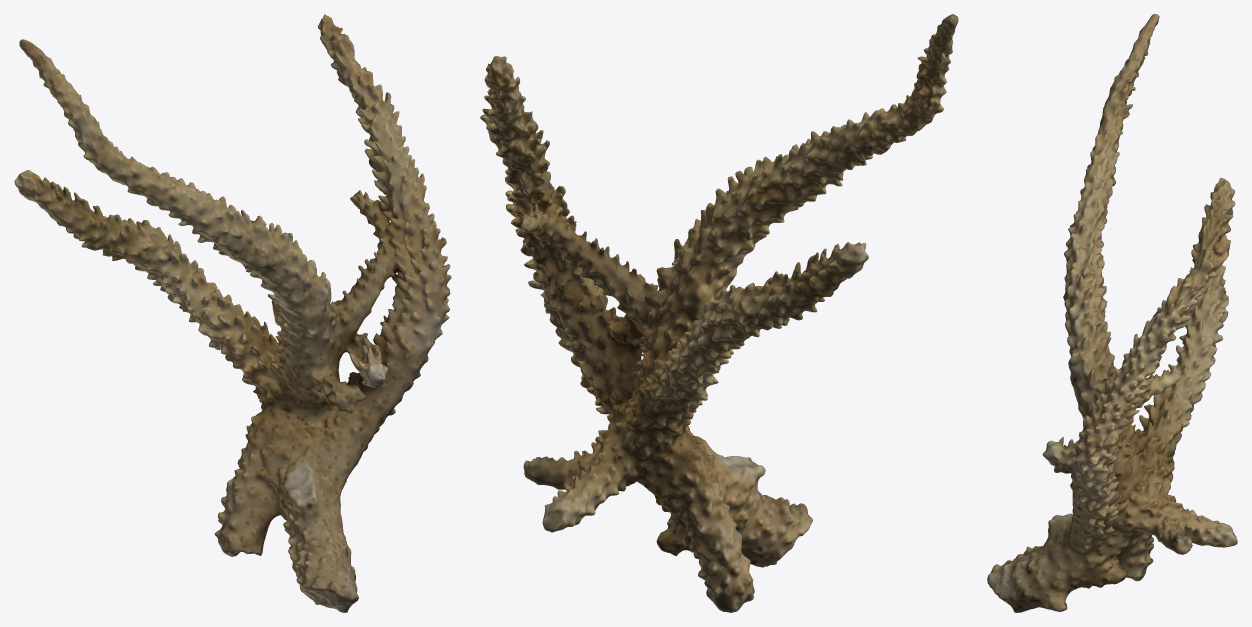
Rendered from acropora_valenciennesi.glb.
3 renders of one model, left to right at view 1: azimuth 30°, elevation 25°; view 2: azimuth 150°, elevation 25°; view 3: azimuth 270°, elevation 25°, orthographic. The views are drawn at different scales.
Bounding box in the file's own units: 0.0961 × 0.1328 × 0.0606.
1 material, 1 textured.
